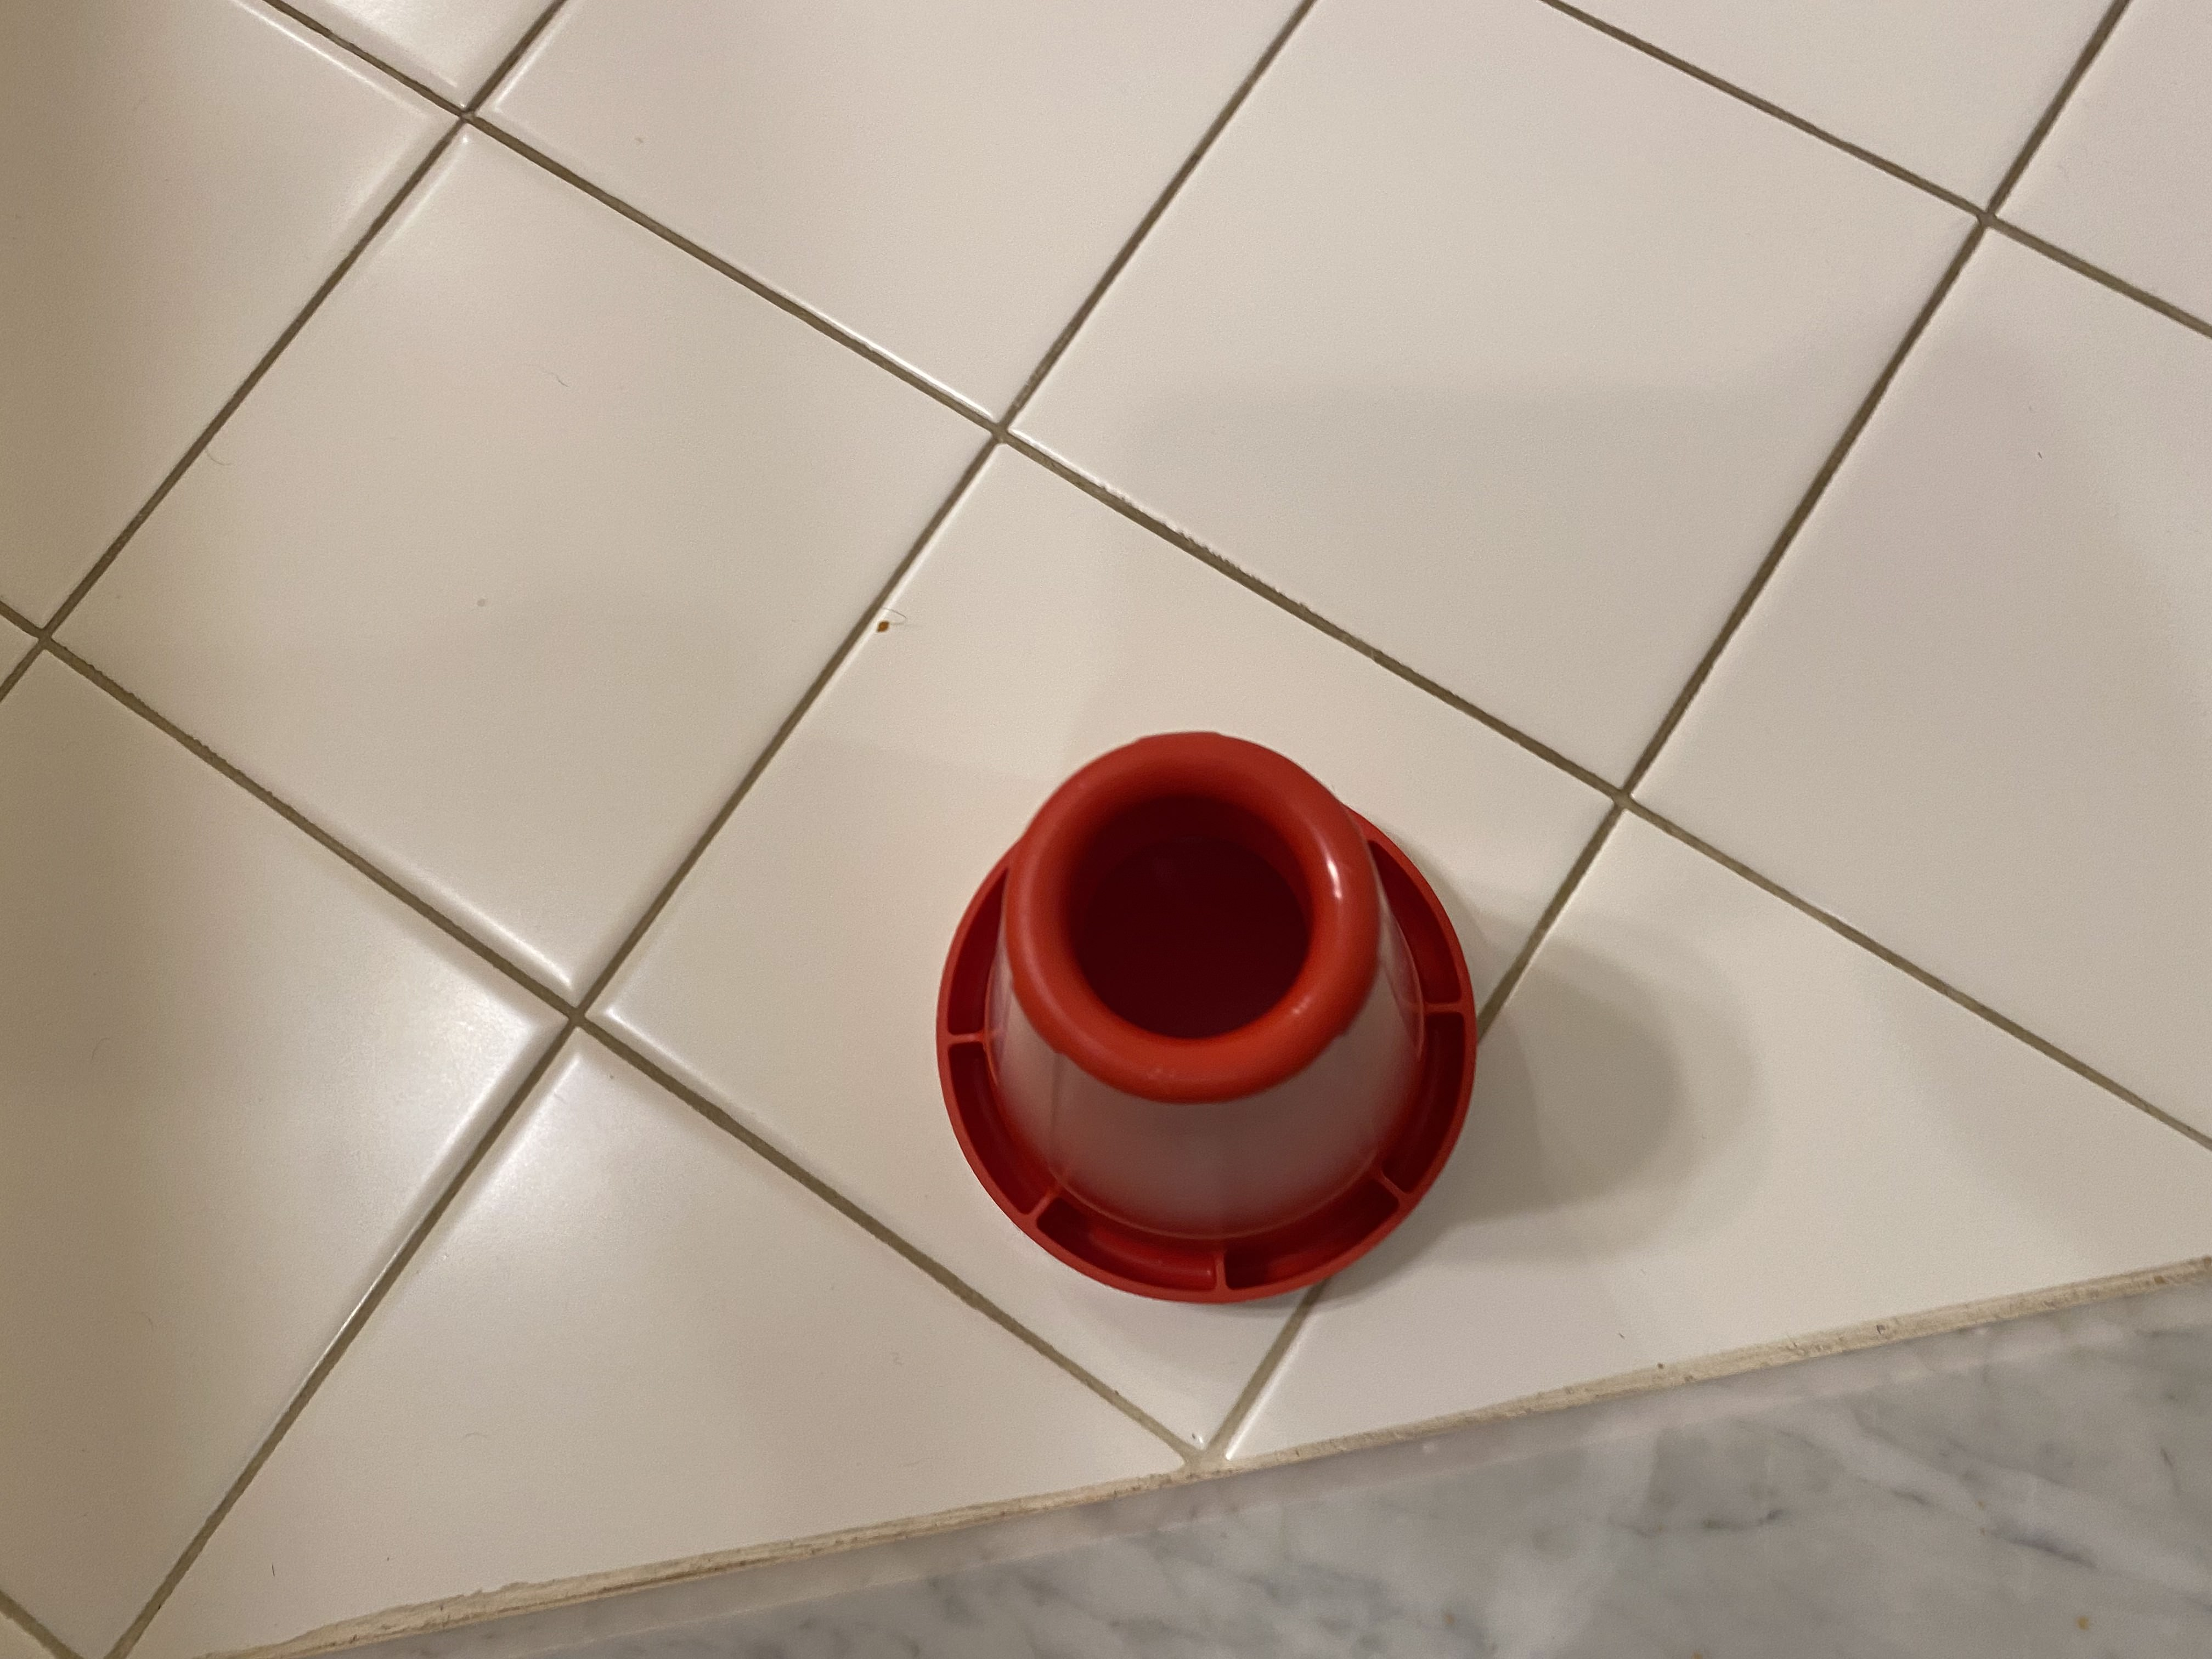redCone: (927, 725, 1487, 1310)
